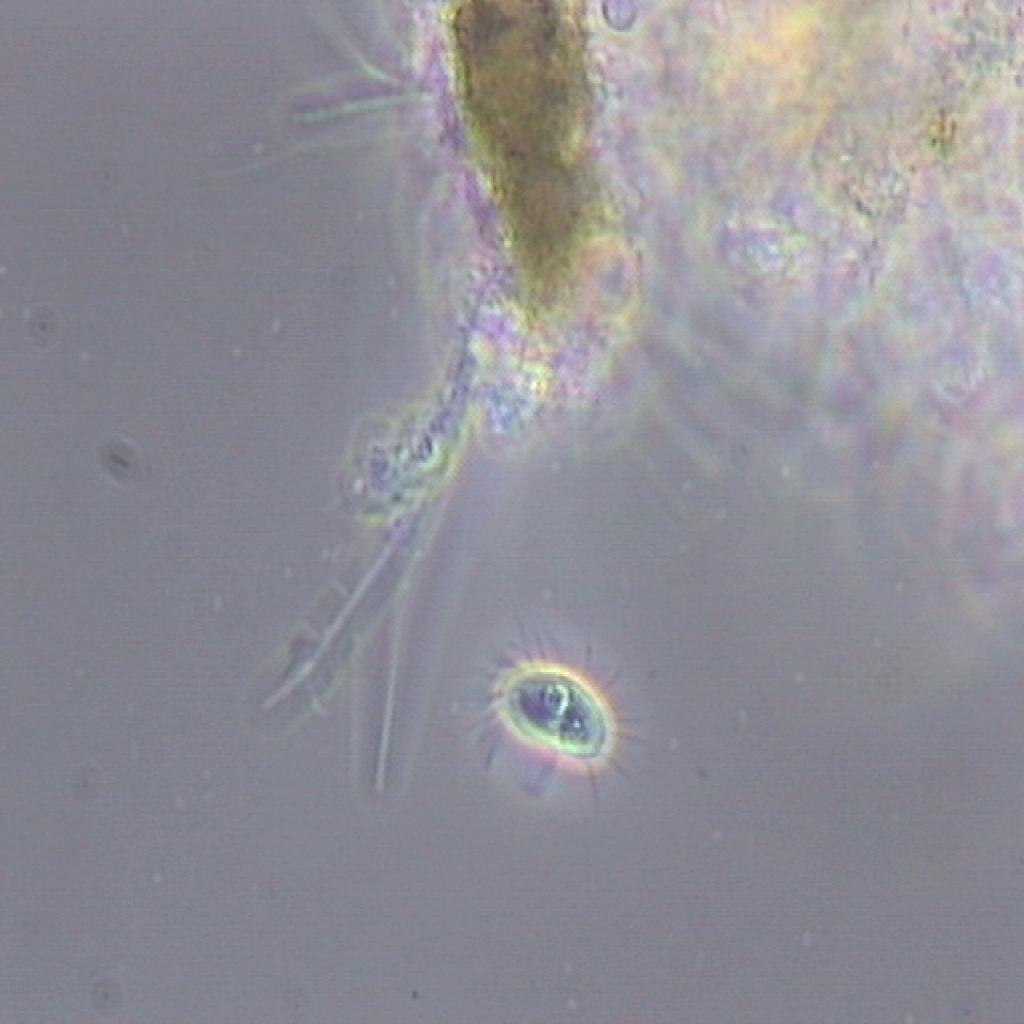Cyclidium: (460, 608, 660, 819)
